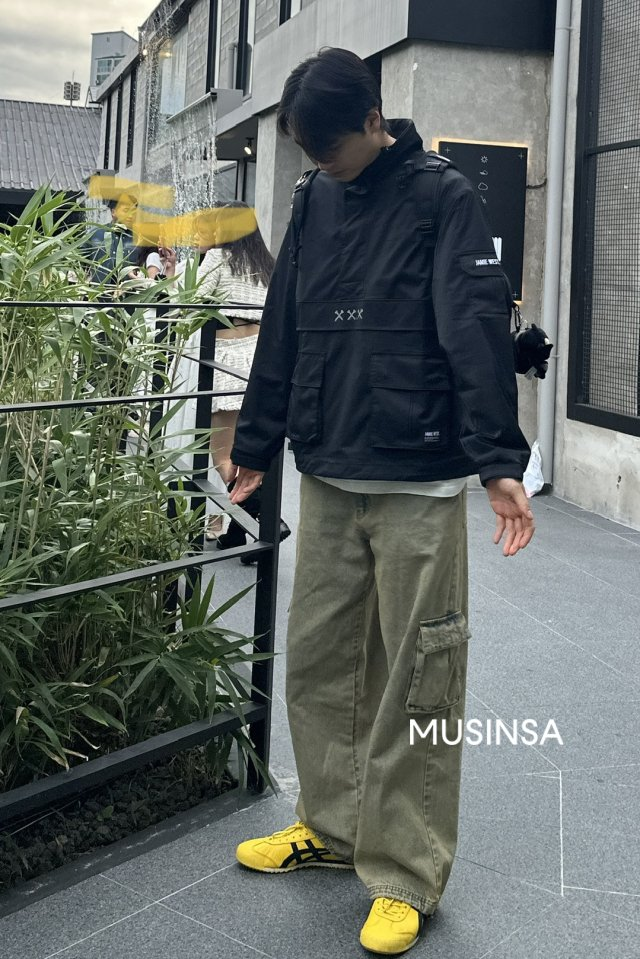Pants: (283, 446, 471, 921)
Shoes: (235, 809, 438, 954)
Top: (221, 144, 547, 488)
